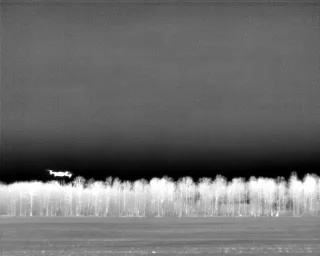DRONE: (44, 166, 74, 180)
